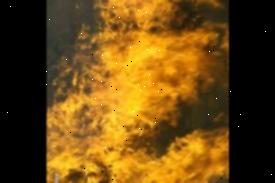fire: (63, 0, 227, 183)
